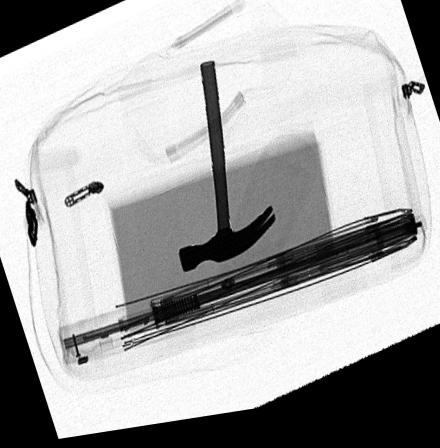Hammer: (178, 66, 276, 279)
